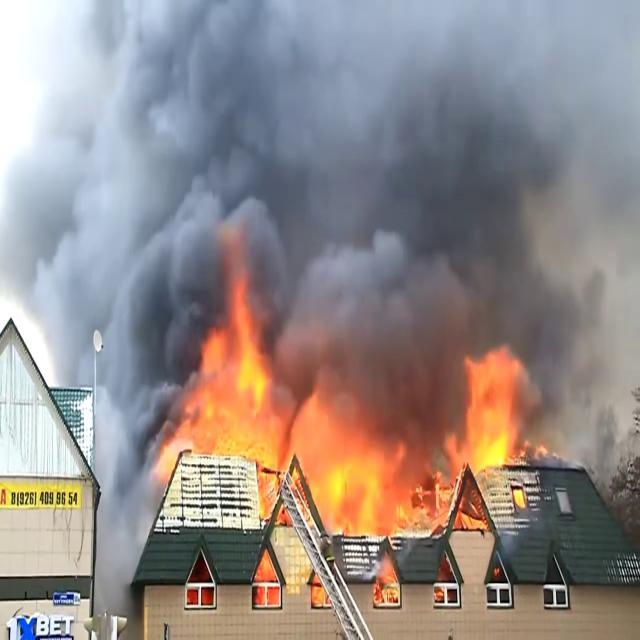Fire: (164, 328, 546, 535)
Smoke: (1, 2, 632, 372)
